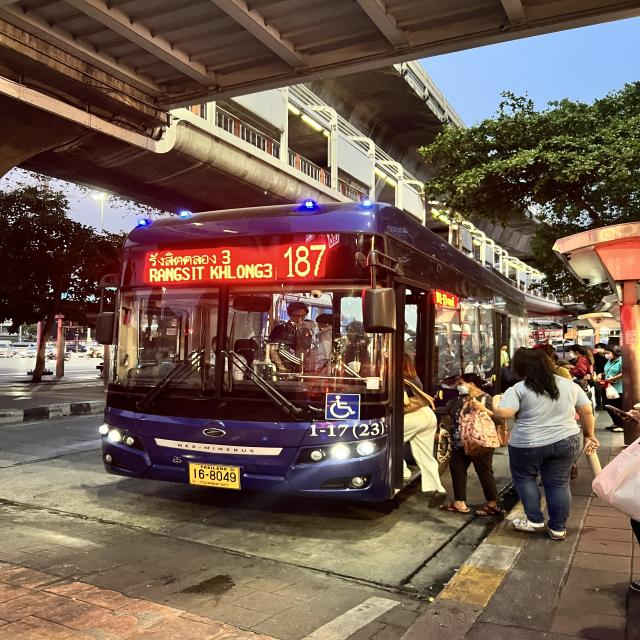Bus-Line-Number: (283, 242, 329, 280)
Destination-Sign-Normal: (143, 245, 281, 282)
TSB-Bus: (90, 193, 538, 518)
